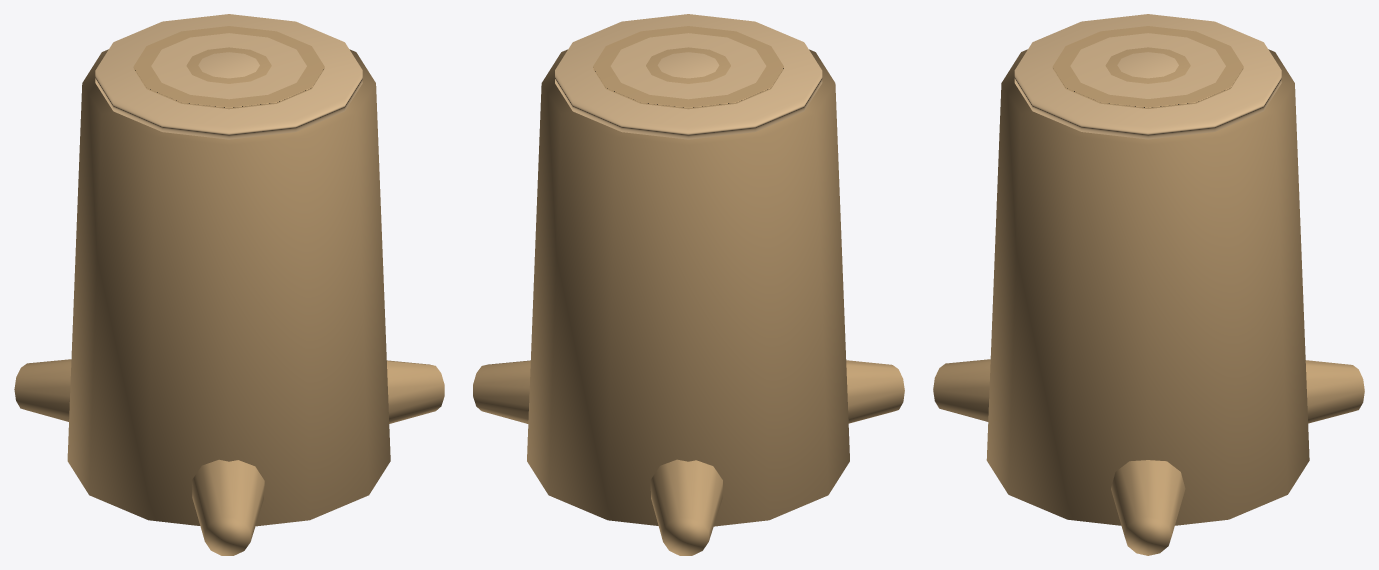
The model's file is stump_v2_tall.glb.
3 renders of one model, left to right at view 1: azimuth 30°, elevation 25°; view 2: azimuth 150°, elevation 25°; view 3: azimuth 270°, elevation 25°, orthographic.
Size of the model in its own units: 0.8445 by 0.9219 by 0.9119.
